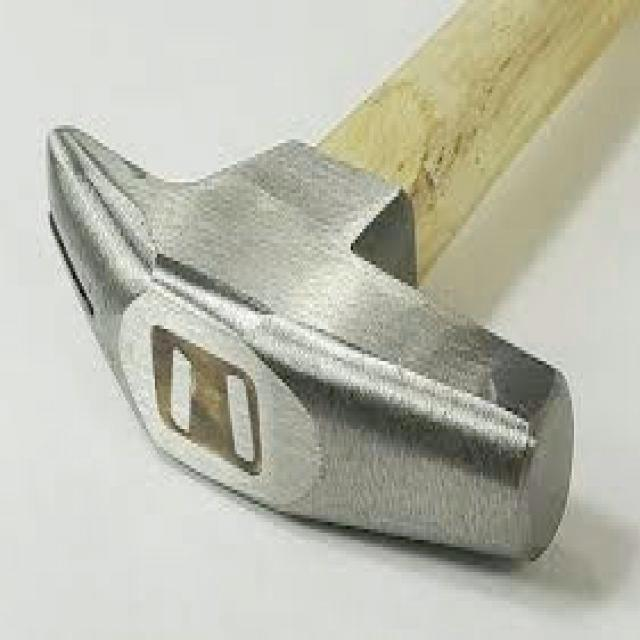hammer: (43, 0, 640, 565)
